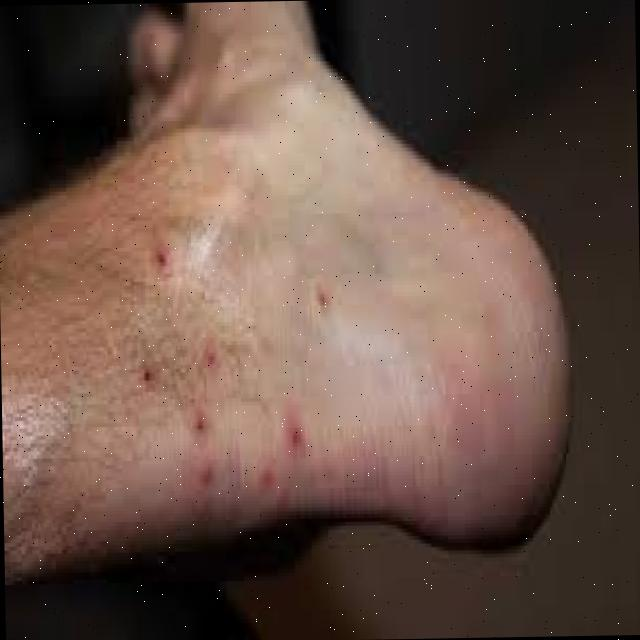kan emici bocekler: (153, 246, 175, 287), (318, 284, 337, 313), (258, 465, 276, 491), (206, 345, 222, 374), (291, 427, 307, 451), (195, 419, 208, 443), (201, 469, 214, 486), (142, 369, 157, 383)
